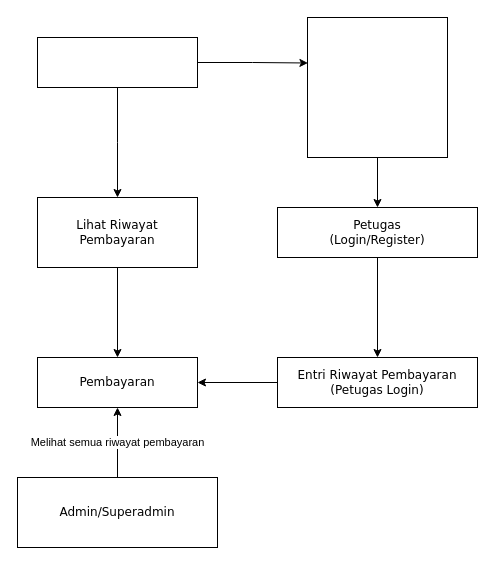
This 495x565 diagram has some shape labels left out. The shapes that lost their labels are listed below. From the top down, each one's centre as x and y in pixels, then its label:
At (117,62): "Siswa (Login)".
At (377,87): "Konfirmasi Pembayaran Eksternal".
